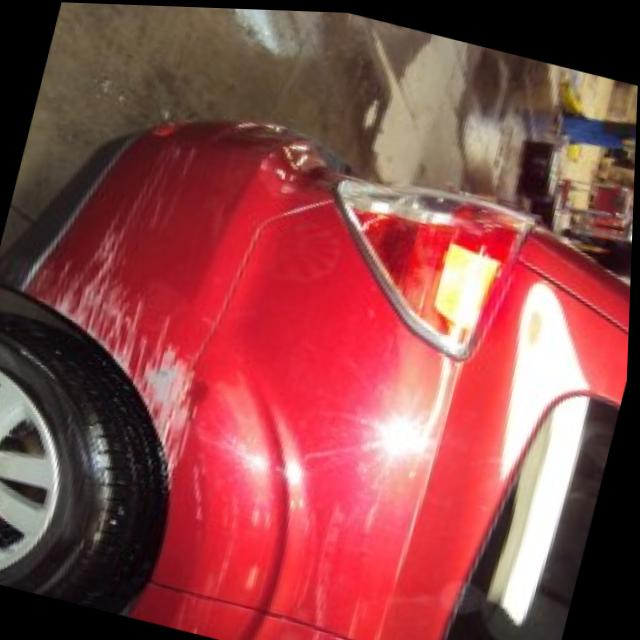Scratch: (47, 239, 185, 475)
